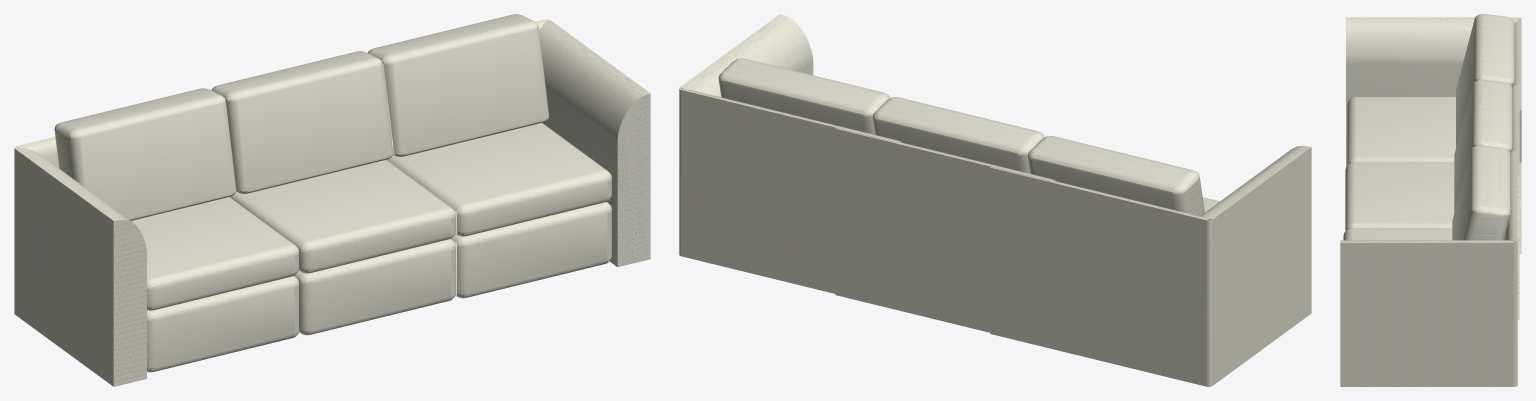
Rendered from sofa1.obj.
3 renders of one model, left to right at view 1: azimuth 30°, elevation 25°; view 2: azimuth 150°, elevation 25°; view 3: azimuth 270°, elevation 25°, orthographic. The views are drawn at different scales.
Visible parts, largest first — view 1: Sofa1b5_3_3, Sofa1b4_2_2, Sofa1b3_1_1, Sofa1b4_2_5, Sofa1b5_3_6, Sofa1b3_1_4; view 2: Sofa1b5_3_3, Sofa1b4_2_2, Sofa1b3_1_1, Sofa1b5_3_6, Sofa1b4_2_5, Sofa1b3_1_4; view 3: Sofa1b4_2_2, Sofa1b5_3_3, Sofa1b3_1_1, Sofa1b4_2_5, Sofa1b5_3_6, Sofa1b3_1_4.
Boxes of the visible parts, bbox=[...] form: Sofa1b5_3_3: bbox=[14, 88, 298, 386]; Sofa1b4_2_2: bbox=[368, 14, 650, 298]; Sofa1b3_1_1: bbox=[211, 51, 455, 335]; Sofa1b4_2_5: bbox=[370, 14, 650, 297]; Sofa1b5_3_6: bbox=[14, 88, 298, 386]; Sofa1b3_1_4: bbox=[212, 51, 455, 334]; Sofa1b5_3_3: bbox=[990, 136, 1311, 386]; Sofa1b4_2_2: bbox=[679, 14, 901, 293]; Sofa1b3_1_1: bbox=[835, 97, 1055, 332]; Sofa1b5_3_6: bbox=[990, 136, 1311, 386]; Sofa1b4_2_5: bbox=[679, 15, 897, 291]; Sofa1b3_1_4: bbox=[835, 97, 1053, 331]; Sofa1b4_2_2: bbox=[1340, 145, 1517, 386]; Sofa1b5_3_3: bbox=[1346, 14, 1521, 253]; Sofa1b3_1_1: bbox=[1345, 80, 1519, 319]; Sofa1b4_2_5: bbox=[1340, 146, 1517, 386]; Sofa1b5_3_6: bbox=[1346, 14, 1521, 253]; Sofa1b3_1_4: bbox=[1345, 80, 1519, 319].
Bounding box in the file's own units: 234 × 79.23 × 79.37.
1 material, 1 textured.
